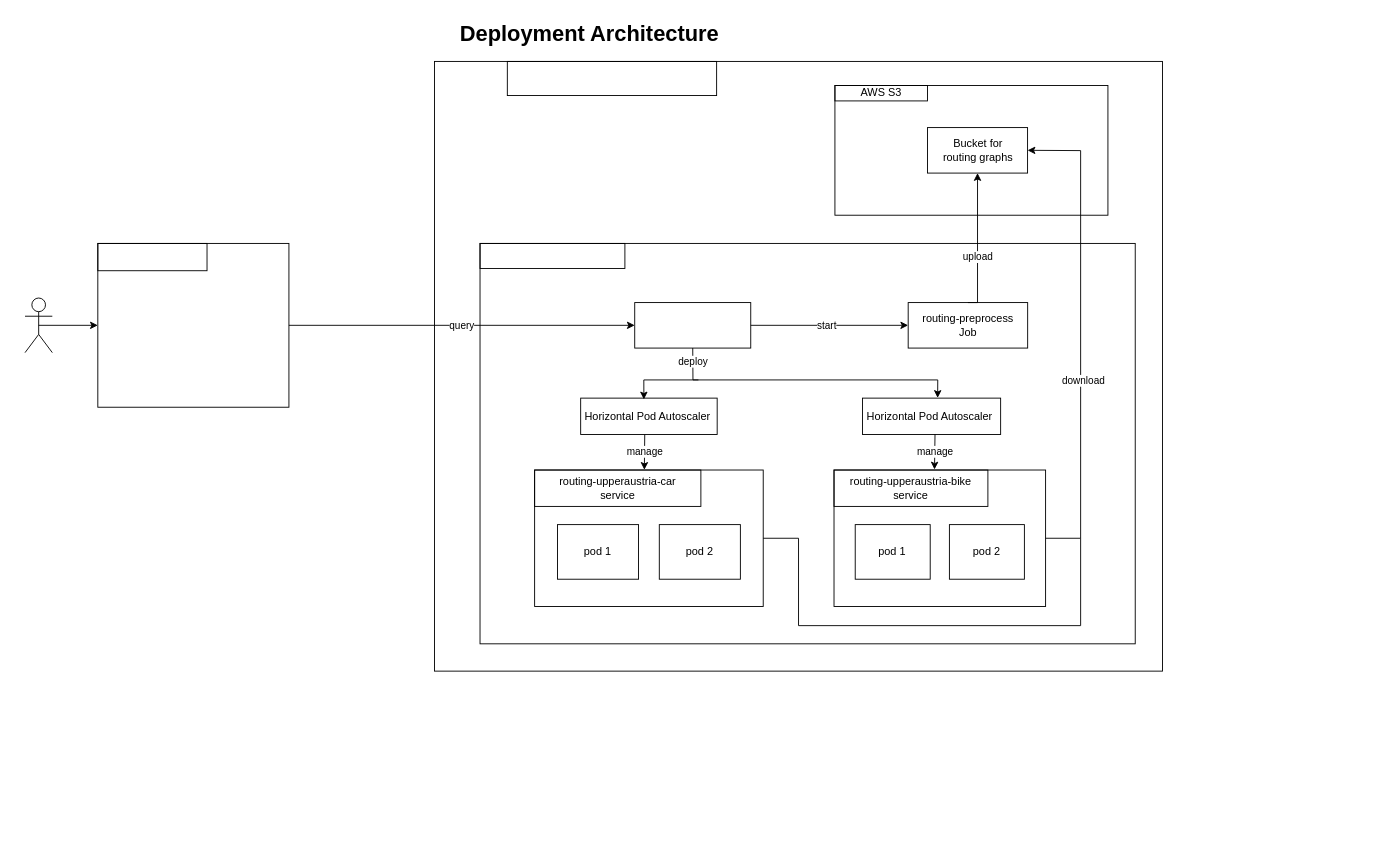
The diagram is 1387 pixels wide and 850 high, and some of its shapes have lost their labels. The shapes that lost their labels are listed below. From the top down, each one's centre as x and y in pixels, then its label:
At [611,78]: "Amazon Web Services".
At [152,257]: "Dashboard UI".
At [552,255]: "Kubernetes Cluster".
At [38,325]: "User".
At [692,325]: "Dashboard-Backend Deployment".
